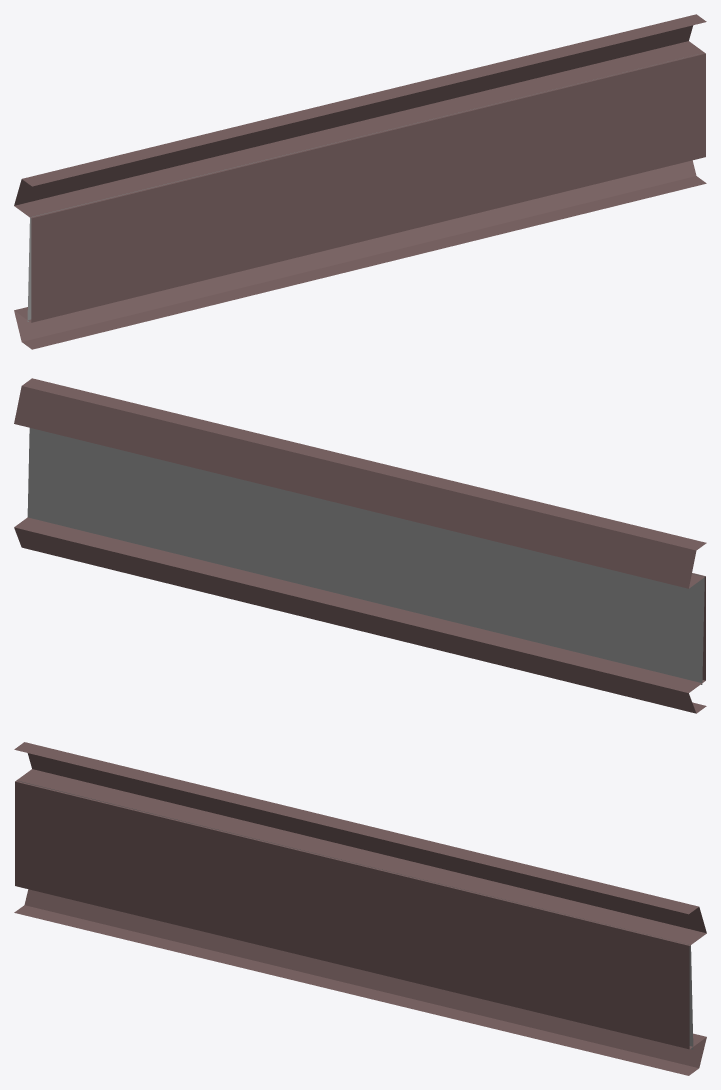
Rendered from ligne_technologique_droite.fbx.
3 renders of one model, top to bottom at view 1: azimuth 30°, elevation 25°; view 2: azimuth 150°, elevation 25°; view 3: azimuth 330°, elevation 25°, orthographic.
Parts seen in each view (by area): view 1: ligne_droite; view 2: ligne_droite; view 3: ligne_droite.
Boxes of the visible parts, left/top/right/bottom form: ligne_droite: left=14, top=14, right=706, bottom=349; ligne_droite: left=14, top=378, right=706, bottom=713; ligne_droite: left=14, top=742, right=706, bottom=1075.
Size of the model in its own units: 144 by 33.28 by 6.71.
